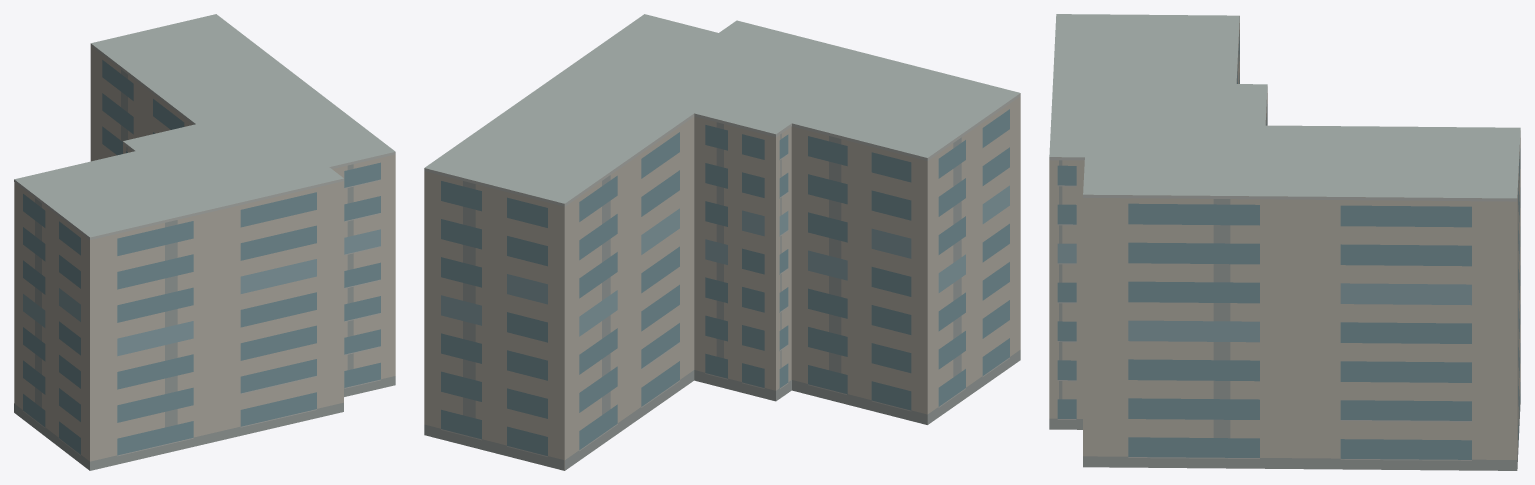
Rendered from residential-bf629c8a-d466-49b0-8472-1392741bd502.glb.
3 renders of one model, left to right at view 1: azimuth 30°, elevation 25°; view 2: azimuth 150°, elevation 25°; view 3: azimuth 270°, elevation 25°, orthographic. The views are drawn at different scales.
Visible parts, largest first — view 1: residential-bf629c8a-d466-49b0-8472-1392741bd502.tmp; view 2: residential-bf629c8a-d466-49b0-8472-1392741bd502.tmp; view 3: residential-bf629c8a-d466-49b0-8472-1392741bd502.tmp.
Boxes of the visible parts, left/top/right/bottom form: residential-bf629c8a-d466-49b0-8472-1392741bd502.tmp: left=14, top=14, right=395, bottom=470; residential-bf629c8a-d466-49b0-8472-1392741bd502.tmp: left=424, top=14, right=1020, bottom=470; residential-bf629c8a-d466-49b0-8472-1392741bd502.tmp: left=1049, top=14, right=1520, bottom=470.
Bounding box in the file's own units: 31 × 21.35 × 33.47.
